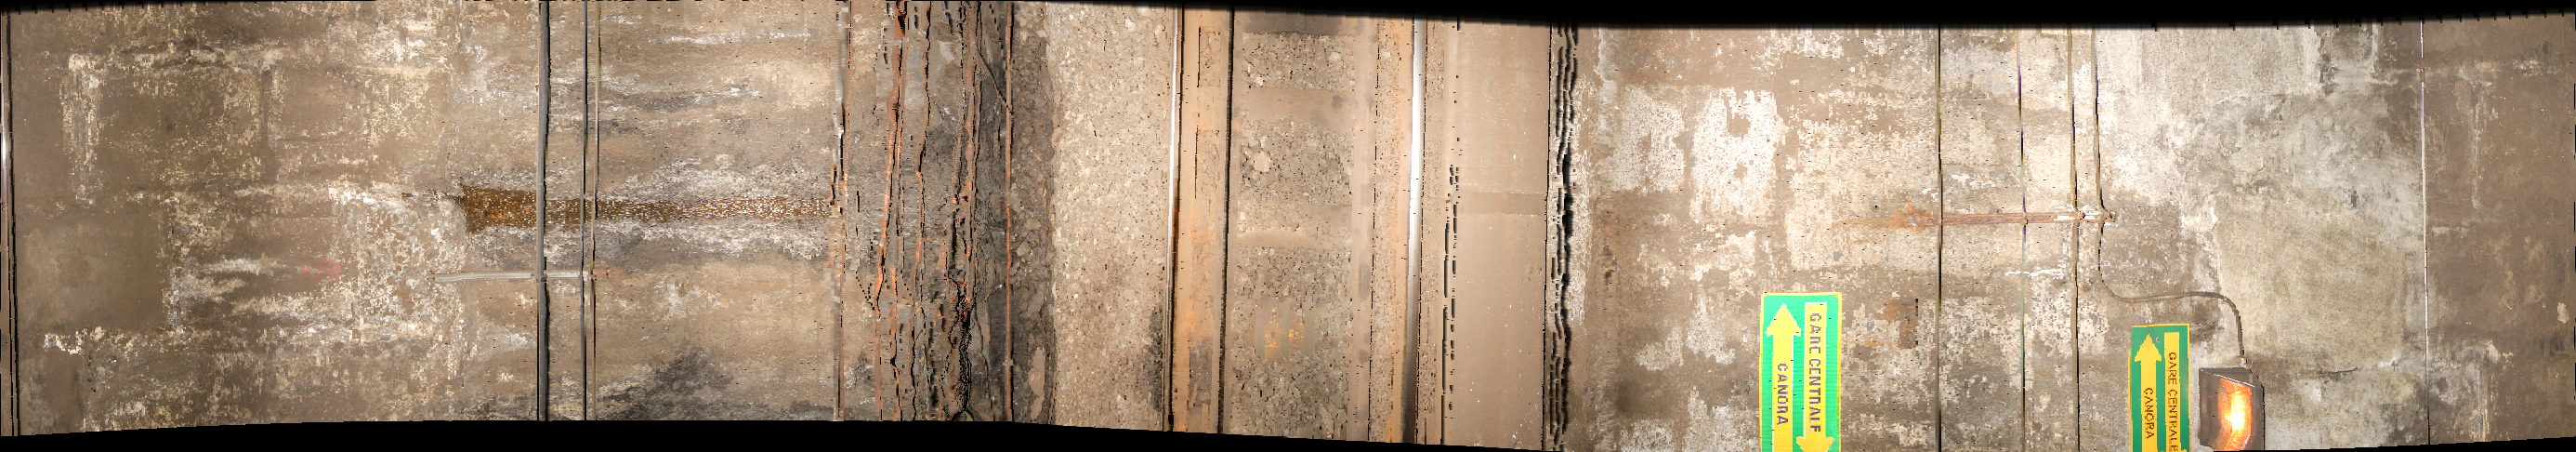light: (2200, 368, 2261, 452)
pipes: (838, 2, 1025, 439), (2003, 26, 2093, 452), (531, 5, 603, 422), (1929, 28, 1953, 452)
sign: (1759, 291, 1845, 452), (2127, 322, 2187, 452)
tracks: (1166, 3, 1452, 452)
